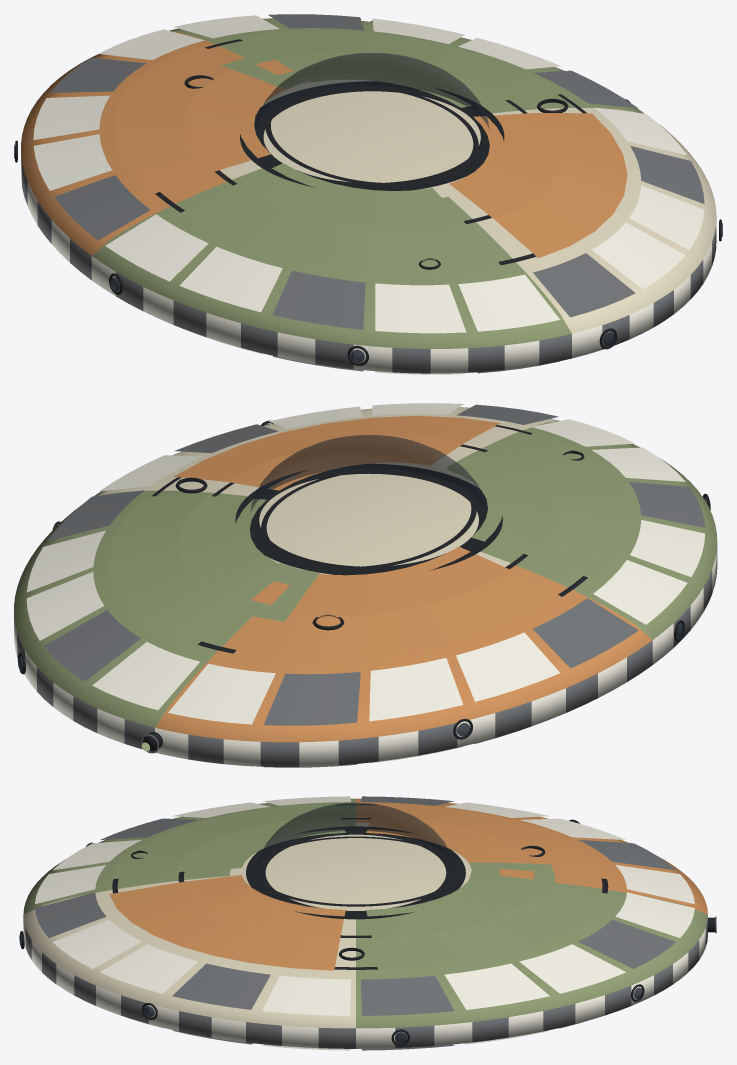
File: Ship_FlyingSaucer_654444.glb
3 renders of one model, top to bottom at view 1: azimuth 30°, elevation 25°; view 2: azimuth 150°, elevation 25°; view 3: azimuth 270°, elevation 25°, orthographic. The views are drawn at different scales.
Parts seen in each view (by area): view 1: Hull_LenticularThickDiscBody, PaintQuadrant_Top_03_LargePanel, PaintQuadrant_Top_04_LargePanel, PaintQuadrant_Top_02_LargePanel, PaintQuadrant_Top_01_LargePanel, CommandDomeGlass_CenteredFlattenedDome, CommandDomeFrame_UpperCircularRim, RimArmorSegment_13_UpperHullPlate, RimArmorSegment_14_UpperHullPlate, RimArmorSegment_12_UpperHullPlate, RimArmorSegment_15_UpperHullPlate, RimArmorSegment_11_UpperHullPlate (+17 smaller); view 2: Hull_LenticularThickDiscBody, PaintQuadrant_Top_02_LargePanel, PaintQuadrant_Top_01_LargePanel, PaintQuadrant_Top_03_LargePanel, PaintQuadrant_Top_04_LargePanel, CommandDomeGlass_CenteredFlattenedDome, CommandDomeFrame_UpperCircularRim, RimArmorSegment_07_UpperHullPlate, RimArmorSegment_08_UpperHullPlate, RimArmorSegment_06_UpperHullPlate, RimArmorSegment_09_UpperHullPlate, RimArmorSegment_05_UpperHullPlate (+17 smaller); view 3: Hull_LenticularThickDiscBody, PaintQuadrant_Top_01_LargePanel, PaintQuadrant_Top_04_LargePanel, PaintQuadrant_Top_03_LargePanel, PaintQuadrant_Top_02_LargePanel, CommandDomeGlass_CenteredFlattenedDome, CommandDomeFrame_UpperCircularRim, RimArmorSegment_01_UpperHullPlate, RimArmorSegment_02_UpperHullPlate, RimArmorSegment_20_UpperHullPlate, RimArmorSegment_19_UpperHullPlate, RimArmorSegment_03_UpperHullPlate (+17 smaller).
Boxes of the visible parts, box(x1,y1,x2,y2) form: Hull_LenticularThickDiscBody: box(21, 18, 716, 373); PaintQuadrant_Top_03_LargePanel: box(179, 163, 501, 274); PaintQuadrant_Top_04_LargePanel: box(449, 113, 627, 258); PaintQuadrant_Top_02_LargePanel: box(113, 46, 293, 194); PaintQuadrant_Top_01_LargePanel: box(237, 30, 564, 107); CommandDomeGlass_CenteredFlattenedDome: box(255, 53, 489, 129); CommandDomeFrame_UpperCircularRim: box(240, 81, 504, 190); RimArmorSegment_13_UpperHullPlate: box(272, 270, 365, 329); RimArmorSegment_14_UpperHullPlate: box(375, 283, 466, 333); RimArmorSegment_12_UpperHullPlate: box(179, 246, 282, 312); RimArmorSegment_15_UpperHullPlate: box(458, 274, 560, 331); RimArmorSegment_11_UpperHullPlate: box(105, 214, 208, 281); Hull_LenticularThickDiscBody: box(14, 407, 717, 767); PaintQuadrant_Top_02_LargePanel: box(232, 546, 564, 662); PaintQuadrant_Top_01_LargePanel: box(107, 496, 278, 646); PaintQuadrant_Top_03_LargePanel: box(447, 432, 627, 578); PaintQuadrant_Top_04_LargePanel: box(174, 416, 500, 490); CommandDomeGlass_CenteredFlattenedDome: box(250, 435, 487, 513); CommandDomeFrame_UpperCircularRim: box(235, 464, 502, 575); RimArmorSegment_07_UpperHullPlate: box(263, 672, 360, 725); RimArmorSegment_08_UpperHullPlate: box(369, 658, 463, 721); RimArmorSegment_06_UpperHullPlate: box(168, 663, 275, 724); RimArmorSegment_09_UpperHullPlate: box(456, 632, 559, 701); RimArmorSegment_05_UpperHullPlate: box(92, 642, 199, 710); Hull_LenticularThickDiscBody: box(23, 798, 707, 1048); PaintQuadrant_Top_01_LargePanel: box(366, 878, 611, 970); PaintQuadrant_Top_04_LargePanel: box(109, 875, 345, 970); PaintQuadrant_Top_03_LargePanel: box(109, 803, 345, 879); PaintQuadrant_Top_02_LargePanel: box(366, 803, 611, 879); CommandDomeGlass_CenteredFlattenedDome: box(258, 802, 453, 866); CommandDomeFrame_UpperCircularRim: box(246, 826, 465, 919); RimArmorSegment_01_UpperHullPlate: box(360, 975, 454, 1015); RimArmorSegment_02_UpperHullPlate: box(444, 963, 549, 1009); RimArmorSegment_20_UpperHullPlate: box(262, 975, 351, 1015); RimArmorSegment_19_UpperHullPlate: box(172, 963, 270, 1009); RimArmorSegment_03_UpperHullPlate: box(519, 944, 626, 993).
Bounding box in the file's own units: 4.69 × 1.63 × 6.09.
